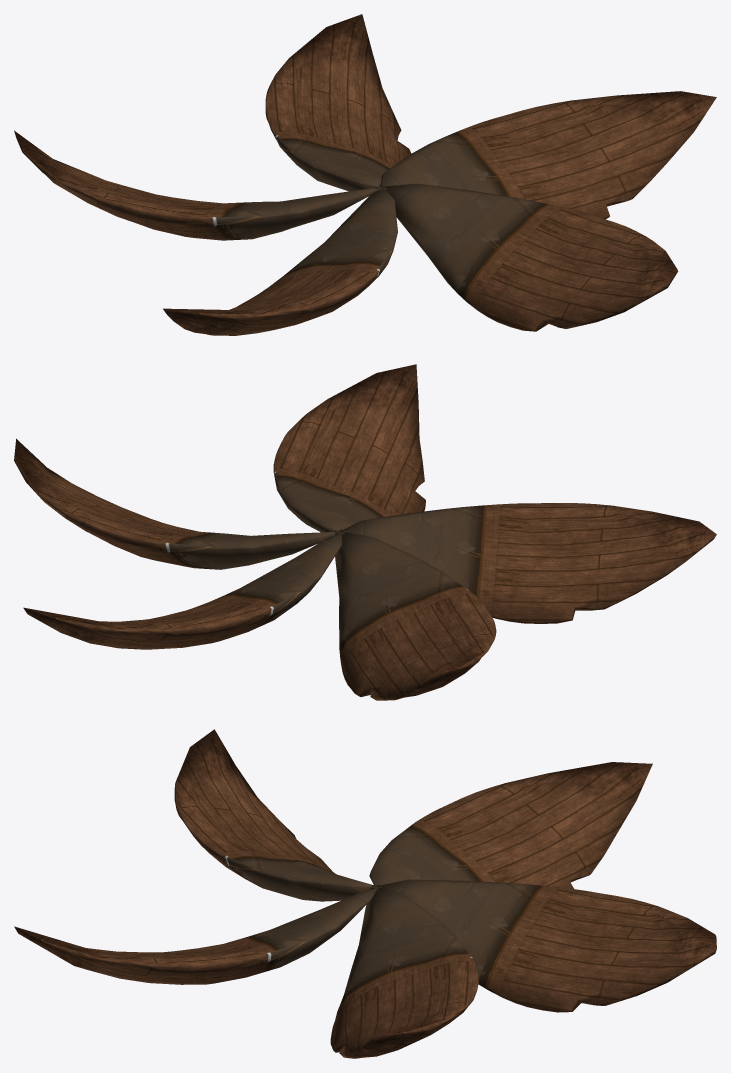
File: elevator fan.fbx
3 renders of one model, top to bottom at view 1: azimuth 30°, elevation 25°; view 2: azimuth 150°, elevation 25°; view 3: azimuth 270°, elevation 25°, orthographic.
Visible parts, largest first — view 1: RetopoFlow.006; view 2: RetopoFlow.006; view 3: RetopoFlow.006.
Part boxes in pixels (box(x1,y1,x2,y2)): RetopoFlow.006: box(14, 14, 716, 335); RetopoFlow.006: box(14, 364, 716, 700); RetopoFlow.006: box(14, 729, 716, 1058).
Bounding box in the file's own units: 825 × 100 × 796.
